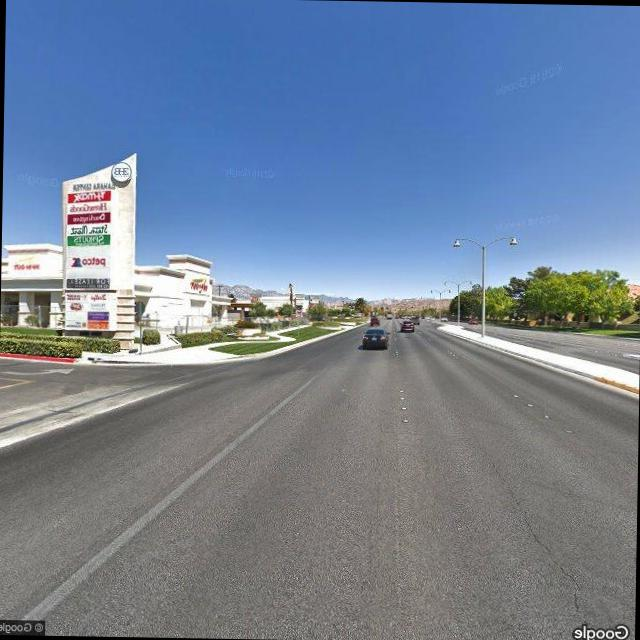pothole: (454, 386, 575, 604)
